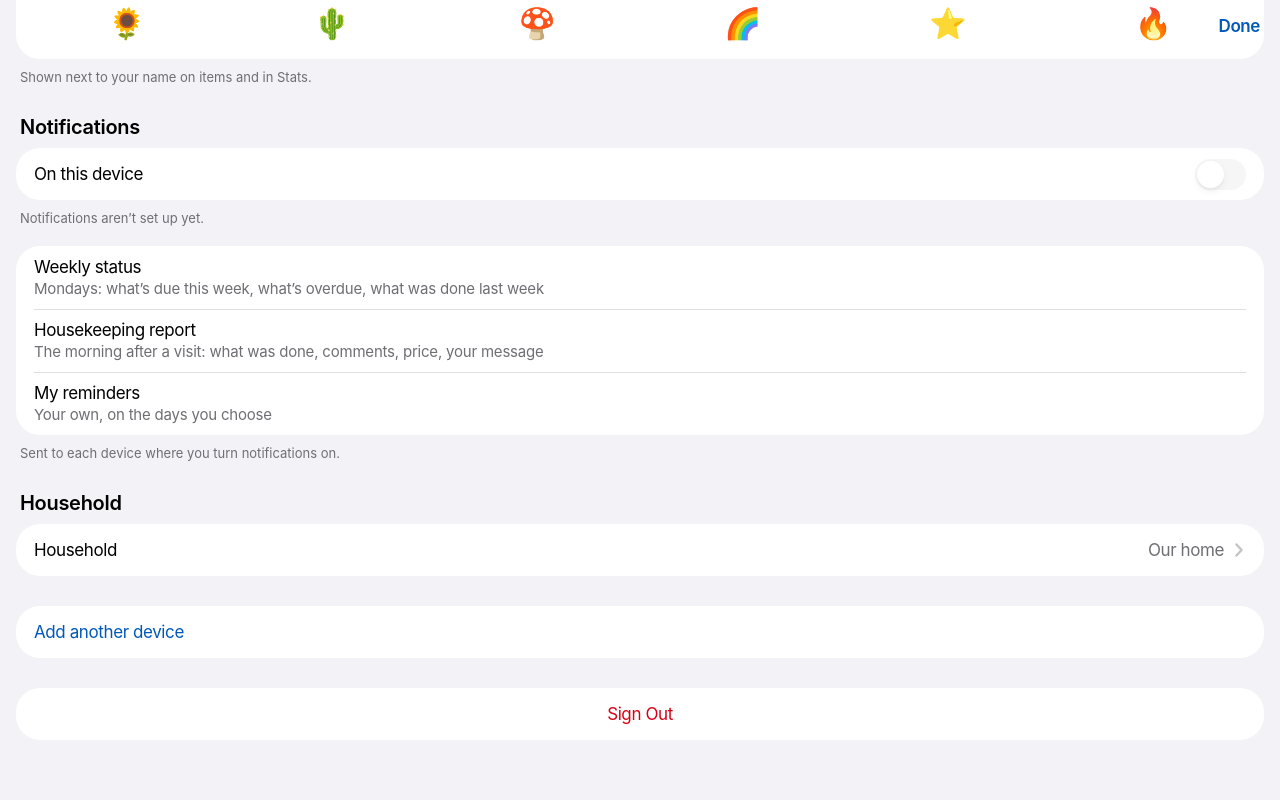
Scenario: Profile in server mode › warns when this is the only device signed in to the home
(page scrolled)
Click the button "Sign Out": x=640, y=714 [16,688,1264,740]
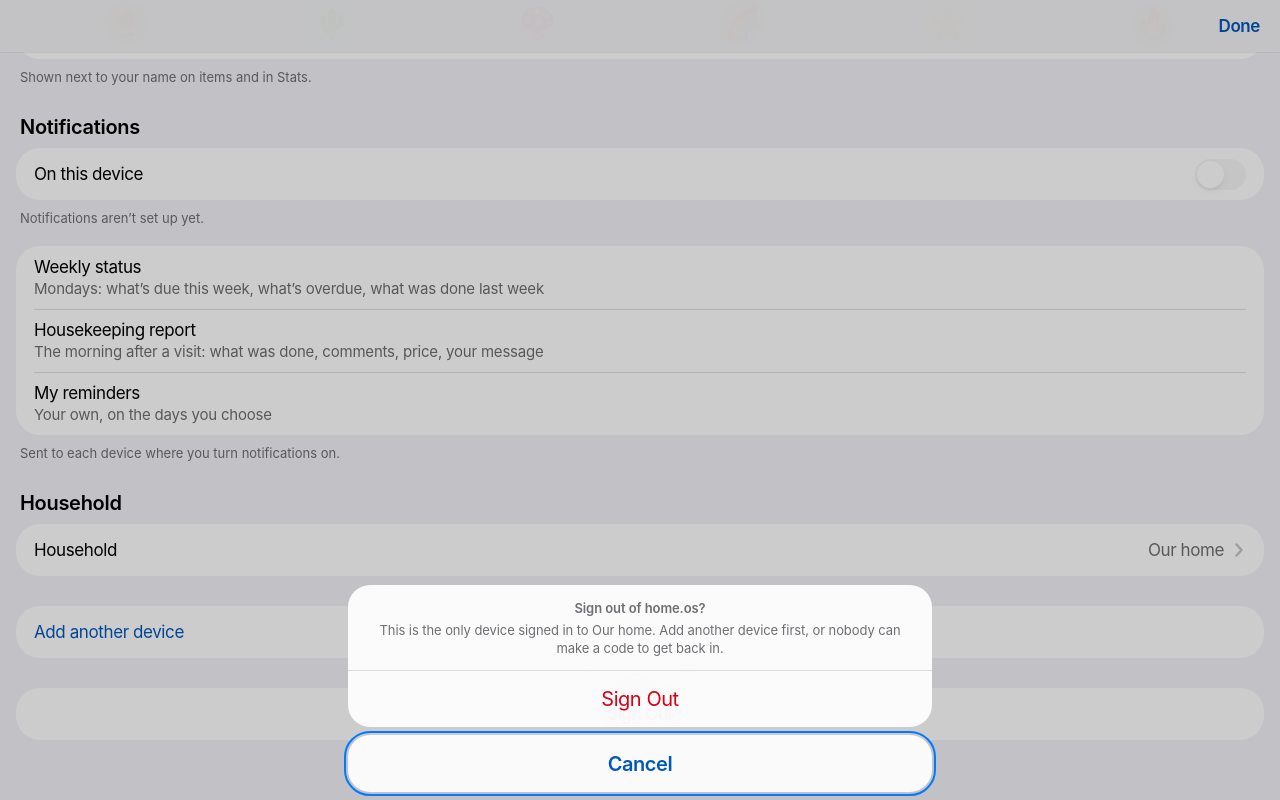
Now the text "This is the only device signed in to Our home. Add another device first, or nobody can make a code to get back in." is shown, box [380,622,900,656]
